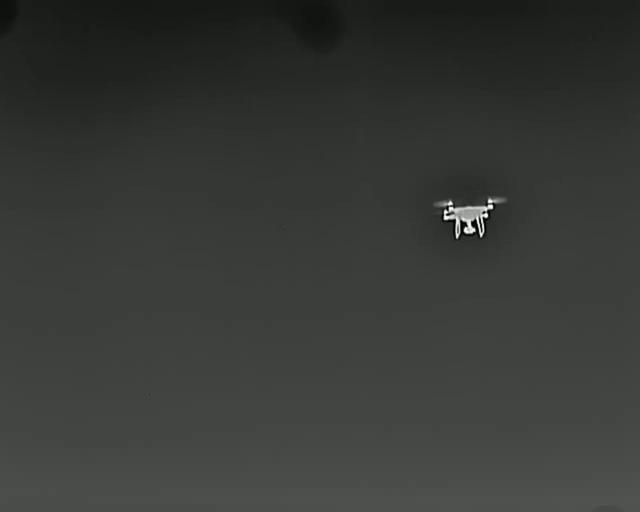DJI-Phantom: (434, 195, 507, 239)
